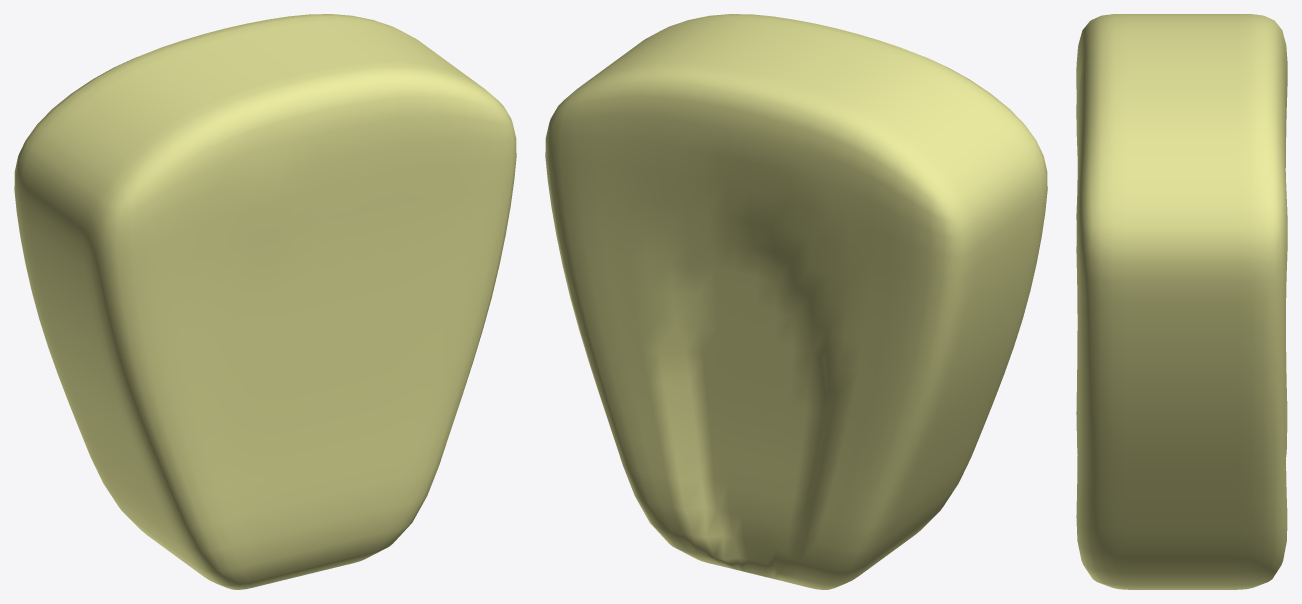
Rendered from corn.fbx.
3 renders of one model, left to right at view 1: azimuth 30°, elevation 25°; view 2: azimuth 150°, elevation 25°; view 3: azimuth 270°, elevation 25°, orthographic.
Visible parts, largest first — view 1: pCube1; view 2: pCube1; view 3: pCube1.
Boxes of the visible parts, <box> form: pCube1: <box>14,14,516,589</box>; pCube1: <box>545,14,1047,589</box>; pCube1: <box>1076,14,1287,589</box>.
Size of the model in its own units: 0.7329 by 0.8523 by 0.3159.
